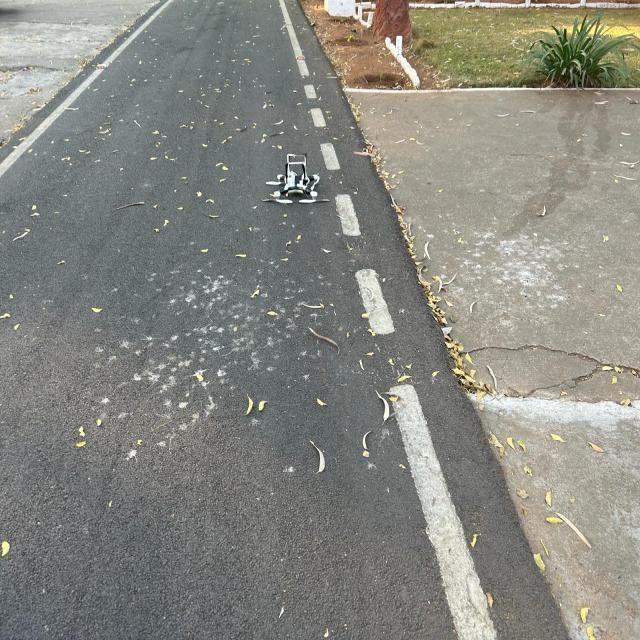drone: (240, 118, 360, 240)
